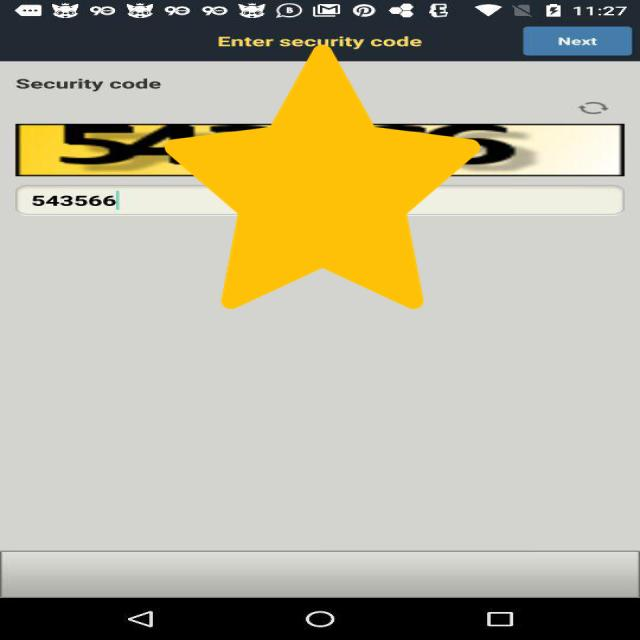forced continuity: (165, 45, 480, 309)
